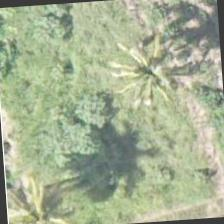Kelapa_Sawit: (94, 24, 190, 120), (4, 165, 93, 223)
